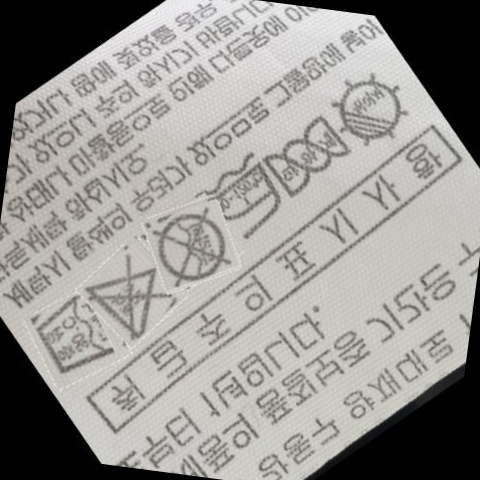DN_dry_clean: (150, 207, 229, 288)
dry_flat_in_shade: (327, 73, 405, 149)
hand_wash: (30, 293, 111, 384)
iron_low: (207, 158, 286, 243)
non_chlorine_bleach: (82, 255, 165, 336)
wring: (259, 108, 345, 199)
